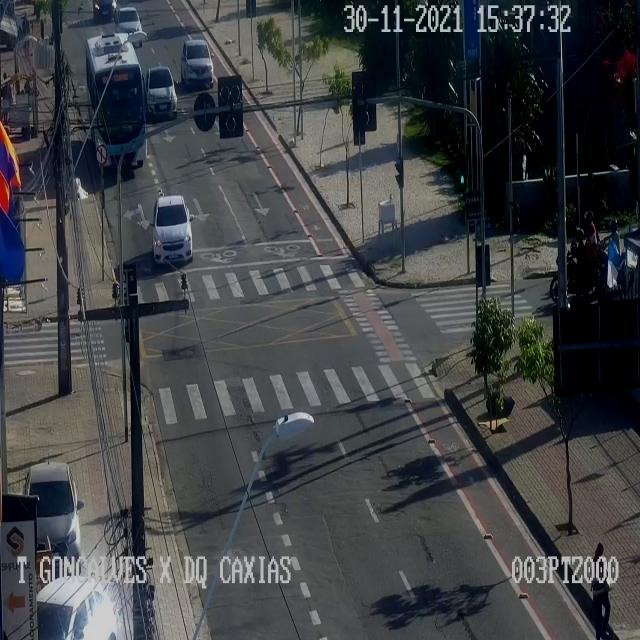Bus: (85, 34, 149, 170)
Car: (21, 463, 83, 561), (36, 572, 118, 639), (149, 195, 194, 268), (180, 39, 214, 87), (146, 66, 178, 116), (116, 6, 144, 46), (93, 0, 123, 20)
Motorcycle: (550, 225, 608, 302)
